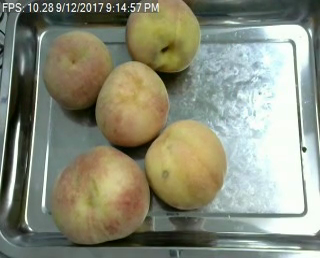Peach: (51, 145, 149, 244), (145, 119, 227, 209), (95, 61, 169, 146), (41, 28, 114, 111), (124, 0, 202, 73)
